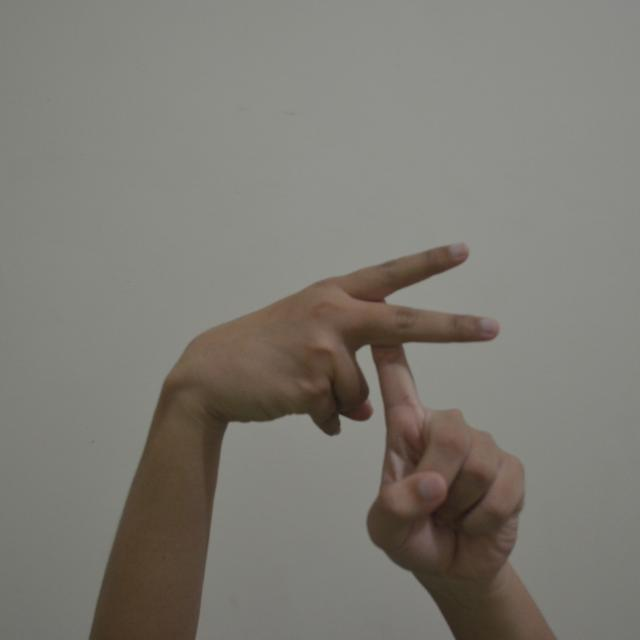F: (146, 236, 543, 592)
